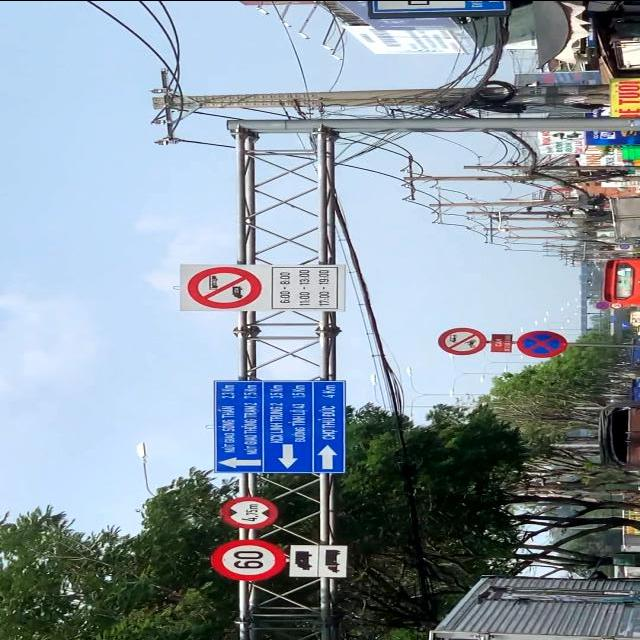P-117: (219, 496, 275, 528)
P-130: (518, 328, 566, 358)
